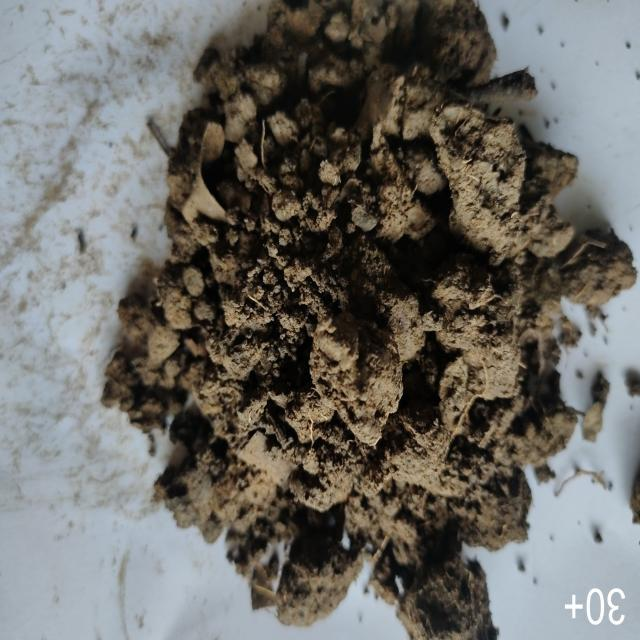soil: (230, 130, 508, 484)
